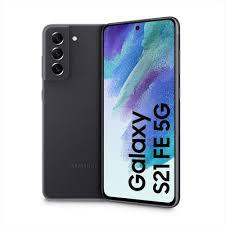Smartphone: (103, 20, 180, 201), (41, 23, 99, 200)
